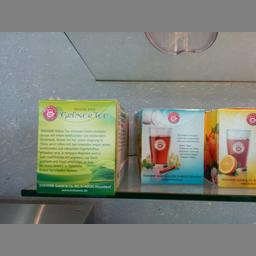tea: (36, 98, 126, 196), (136, 106, 205, 183), (208, 106, 255, 188)
